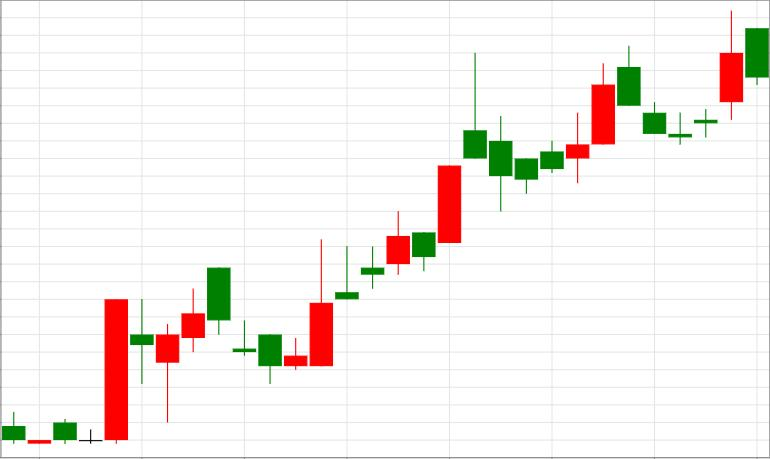shooting_star_fall: (259, 54, 486, 383)
